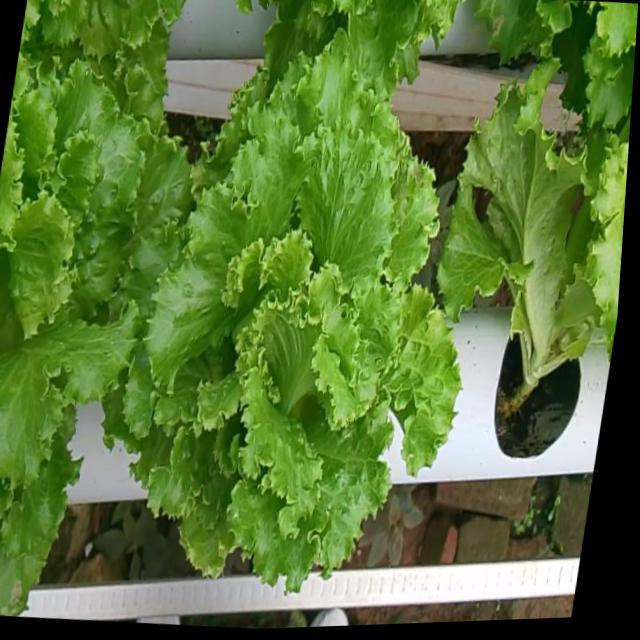Mature: (126, 68, 465, 610), (0, 77, 195, 515)
